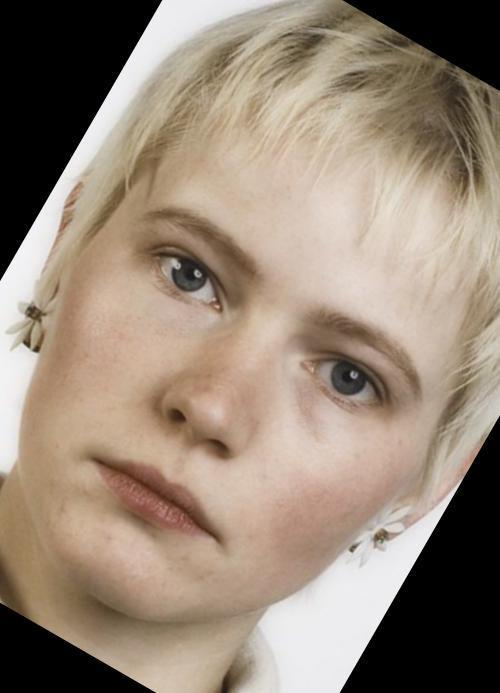Sober: (63, 115, 443, 593)
